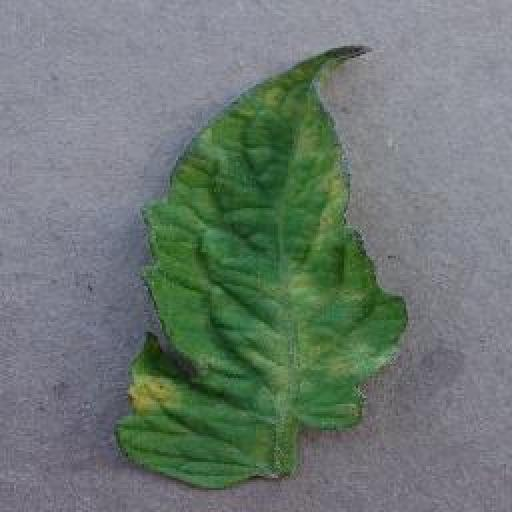disease_tomato: (118, 44, 412, 486)
